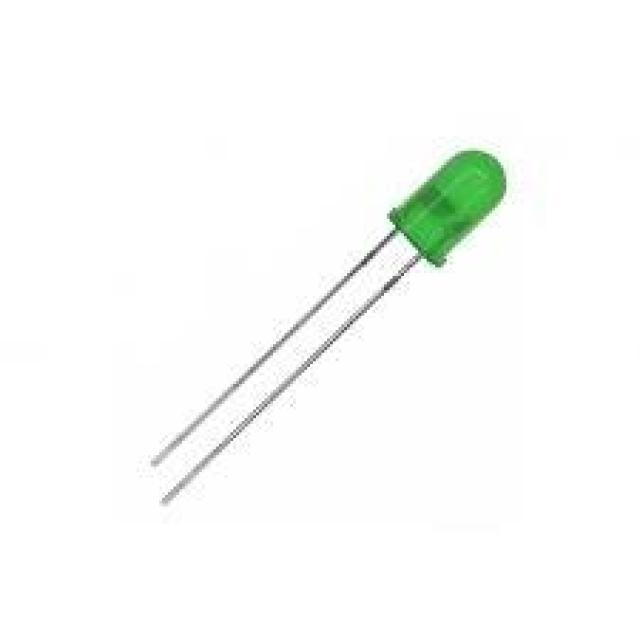Led: (154, 152, 505, 502)
